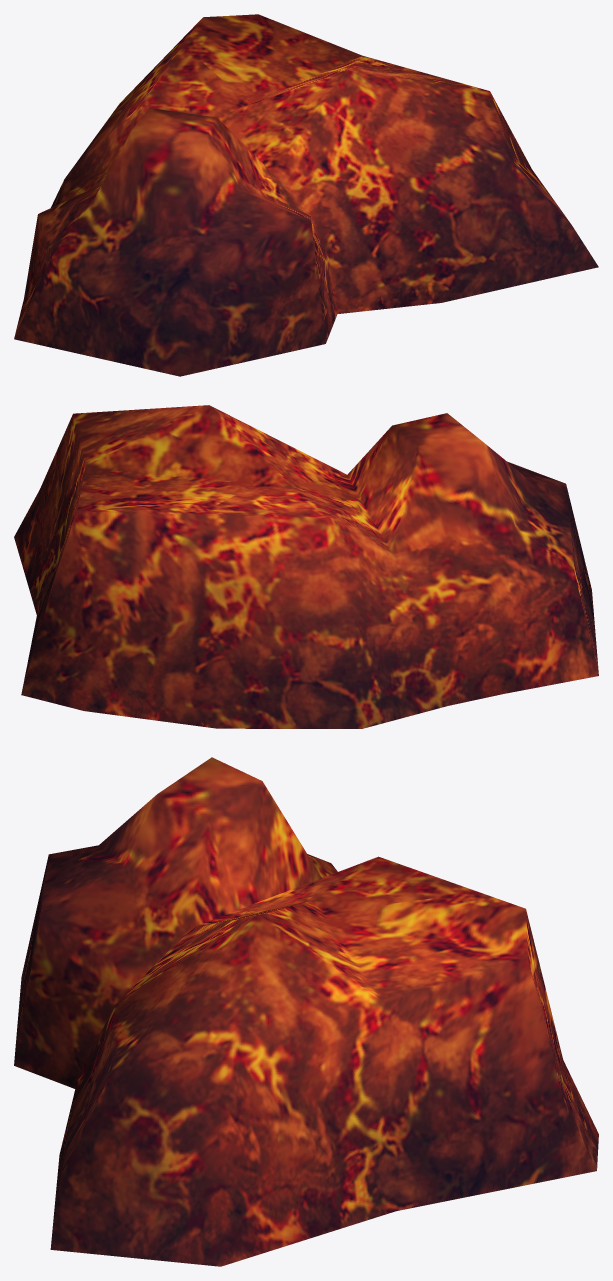
File: Scene_yuanshitou_002.FBX
3 views of the same model, one above another, from view 1: azimuth 30°, elevation 25°; view 2: azimuth 150°, elevation 25°; view 3: azimuth 270°, elevation 25° (orthographic). The views are drawn at different scales.
Parts seen in each view (by area): view 1: Scene_yuanshitou_002; view 2: Scene_yuanshitou_002; view 3: Scene_yuanshitou_002.
Boxes of the visible parts, x1,y1,x2,y2 form: Scene_yuanshitou_002: [14, 14, 598, 376]; Scene_yuanshitou_002: [14, 405, 598, 728]; Scene_yuanshitou_002: [14, 757, 598, 1266].
Bounding box in the file's own units: 36.71 × 12.35 × 26.93.
